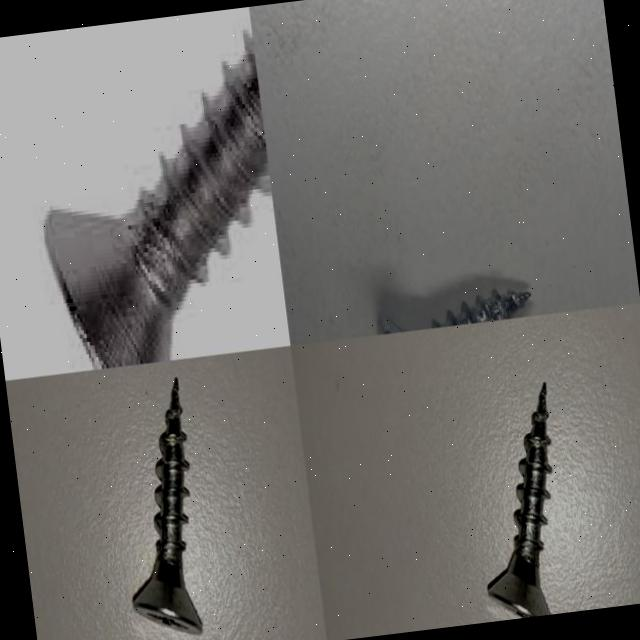Screw: (48, 18, 271, 369), (132, 379, 202, 635), (487, 383, 552, 618), (372, 283, 534, 335)
